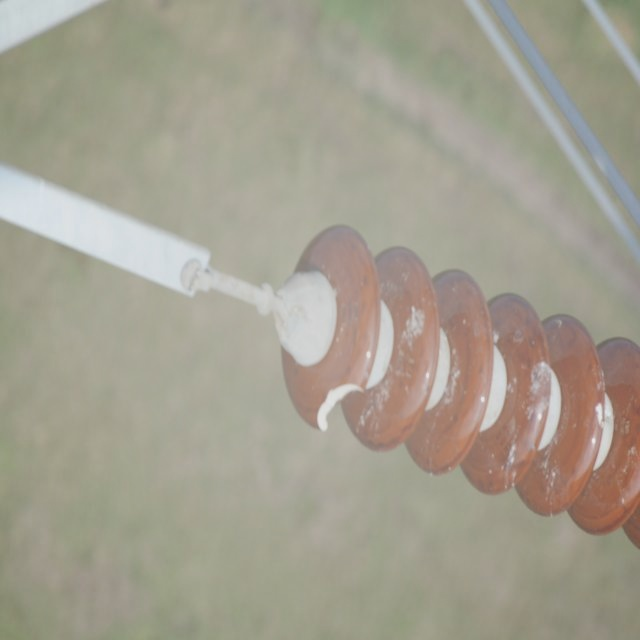broken: (314, 379, 366, 440)
insulator: (282, 224, 640, 555)
